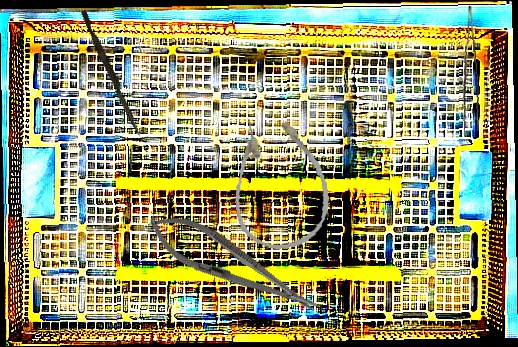Cannula: (224, 109, 335, 254)
Needle Holder: (139, 200, 326, 330)
Pusher: (77, 9, 146, 138)
Tissue Forceps: (453, 5, 483, 133)
